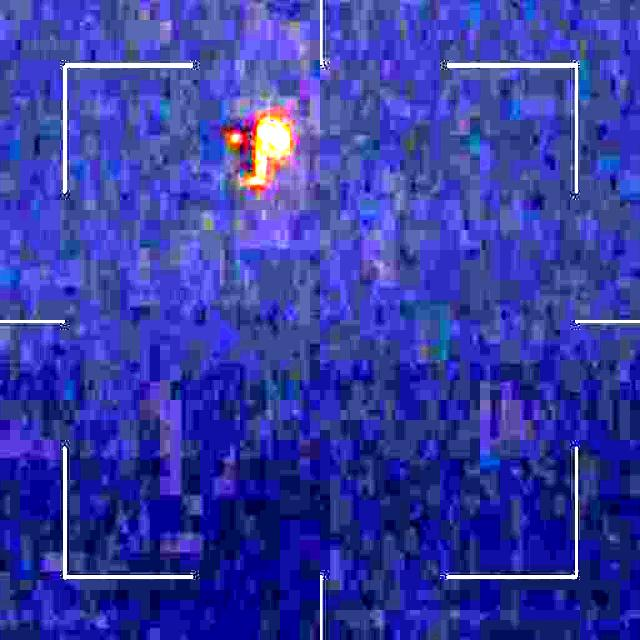bird: (208, 116, 289, 189)
